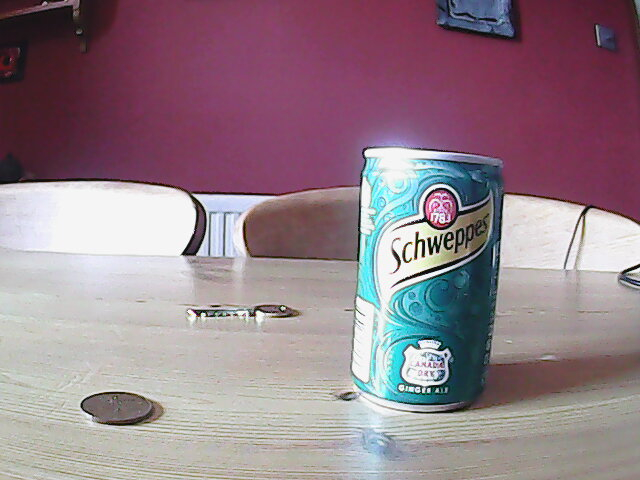Can: (347, 142, 508, 414)
Coin: (79, 389, 156, 430)
Key: (182, 301, 296, 324)
